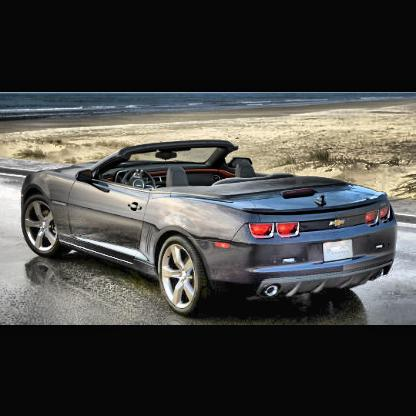Chevrolet Camaro Convertible 2012: (20, 136, 401, 320)
